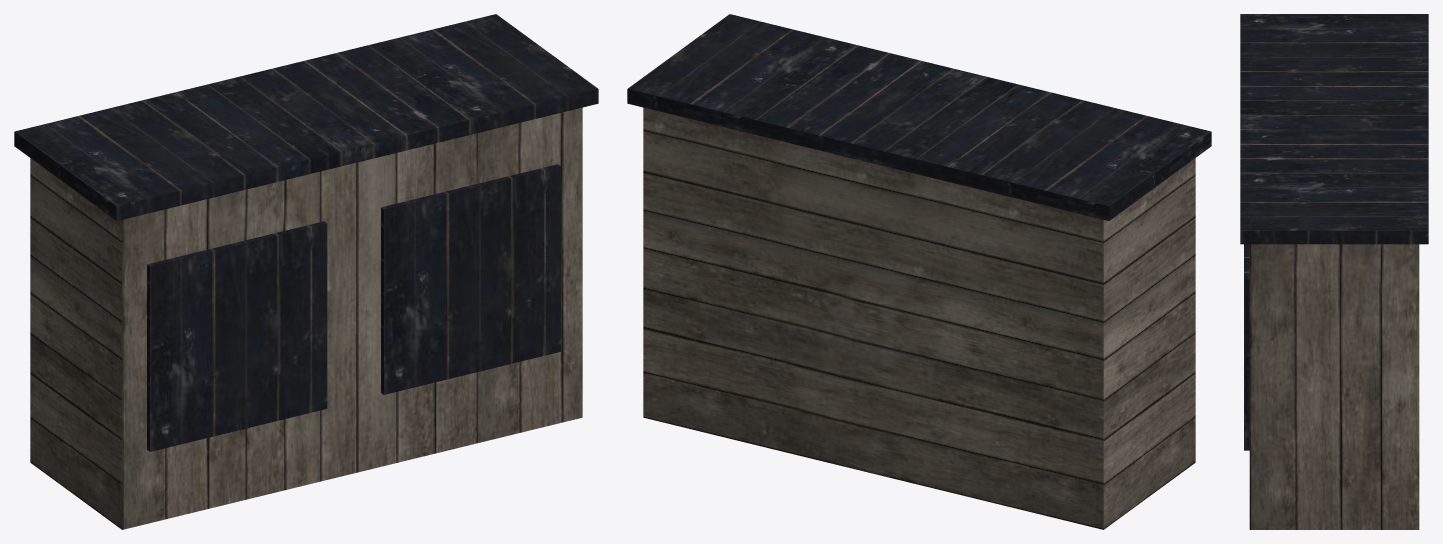
The model's file is cabinet_low_01.glb.
3 renders of one model, left to right at view 1: azimuth 30°, elevation 25°; view 2: azimuth 150°, elevation 25°; view 3: azimuth 270°, elevation 25°, orthographic. The views are drawn at different scales.
Parts seen in each view (by area): view 1: cabinet_low_01; view 2: cabinet_low_01; view 3: cabinet_low_01.
Boxes of the visible parts, <box> form: cabinet_low_01: <box>14,14,598,529</box>; cabinet_low_01: <box>627,14,1211,529</box>; cabinet_low_01: <box>1240,14,1428,529</box>.
Bounding box in the file's own units: 1.36 × 0.89 × 0.5.
2 materials, 2 textured.
